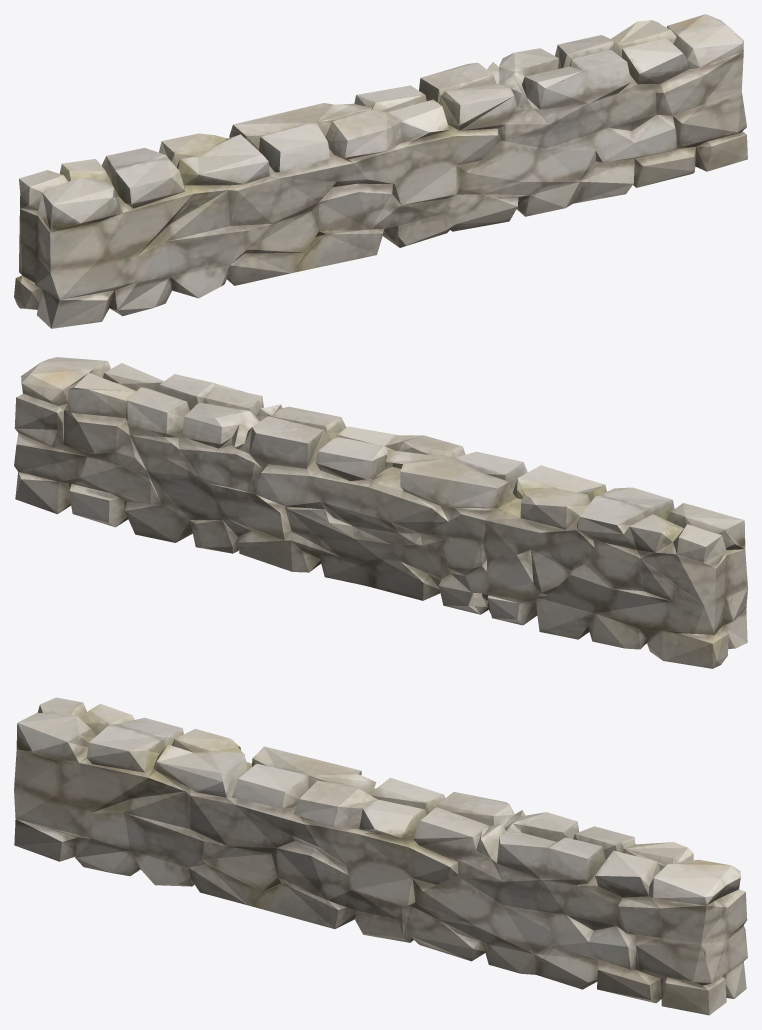
The model's file is stone_wall_small.glb.
The picture shows the model from 3 angles, top to bottom: view 1: azimuth 30°, elevation 25°; view 2: azimuth 150°, elevation 25°; view 3: azimuth 330°, elevation 25°; orthographic projection.
Visible parts, largest first — view 1: geometry_0; view 2: geometry_0; view 3: geometry_0.
Part boxes in pixels (x1,y1,x2,y2): geometry_0: (14,14,747,328); geometry_0: (14,357,747,668); geometry_0: (14,697,747,1015).
Bounding box in the file's own units: 0.9966 × 0.1839 × 0.1267.
1 material, 1 textured.
